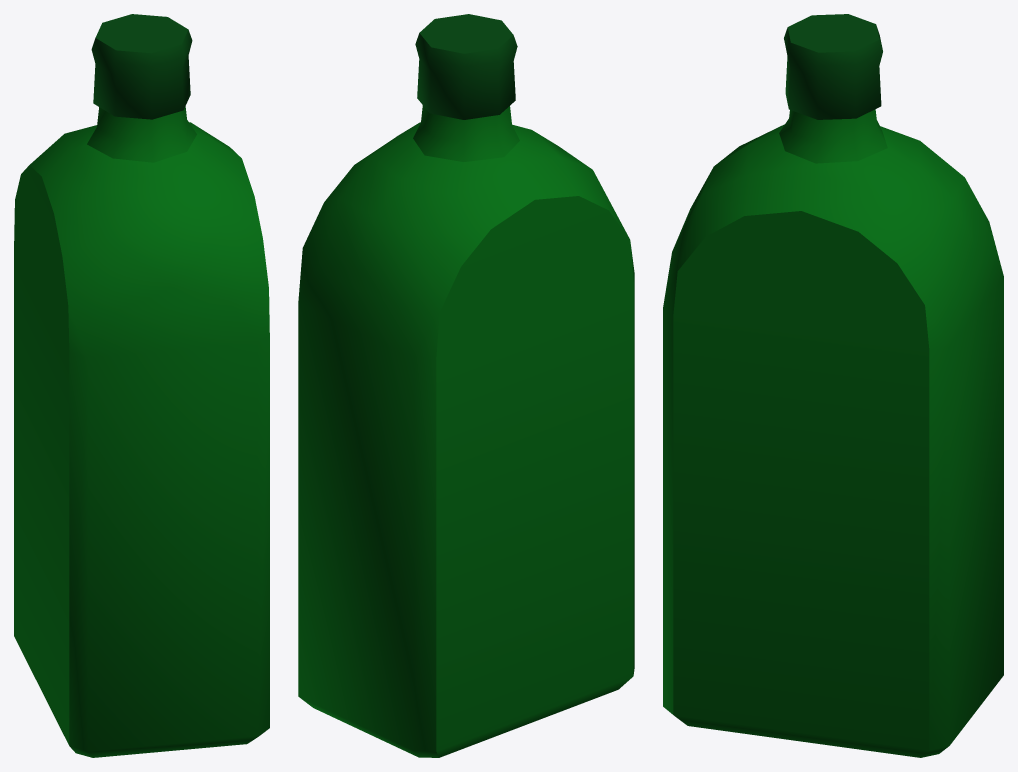
The model's file is Green.fbx.
The picture shows the model from 3 angles, left to right: view 1: azimuth 30°, elevation 25°; view 2: azimuth 150°, elevation 25°; view 3: azimuth 270°, elevation 25°; orthographic projection.
Parts seen in each view (by area): view 1: Green; view 2: Green; view 3: Green.
Boxes of the visible parts, x1,y1,x2,y2 form: Green: (14,14,269,757); Green: (298,14,634,757); Green: (663,14,1003,757).
Size of the model in its own units: 8.22 by 21.65 by 9.98.
